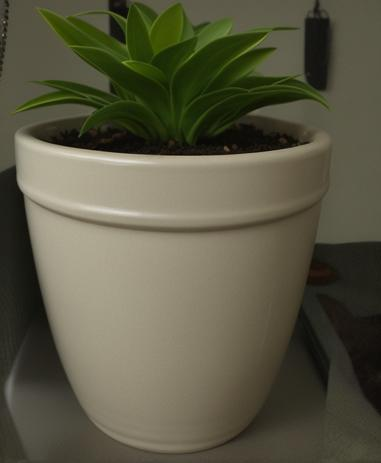pottedplant: (11, 2, 331, 463)
